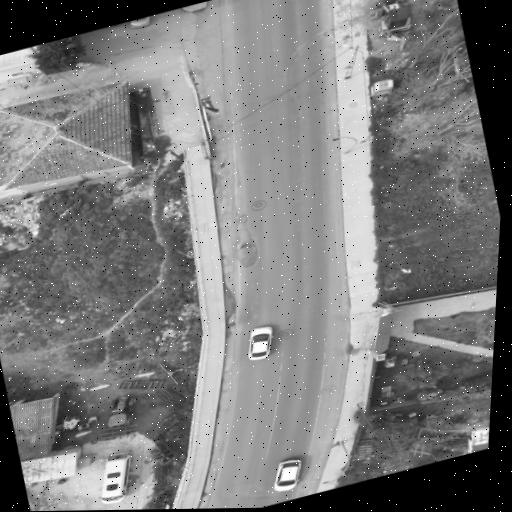car: (100, 452, 131, 504), (274, 459, 300, 491), (247, 326, 271, 359), (129, 17, 149, 27)
tractors: (107, 397, 136, 428)
